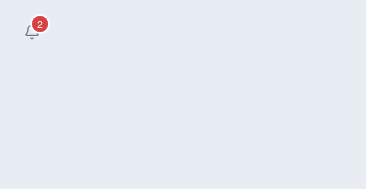
it: NotificationCenter › marks all notifications as read
Later steps or results of the test are not shown.
Step 1. Click the button named "notificações" → x=32, y=32, box top-left (12, 12), bottom-right (52, 52)
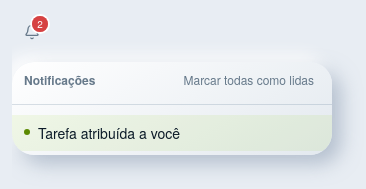
Result: the text "Tarefa atribuída a você" is shown at top-left (38, 123), bottom-right (180, 143)
